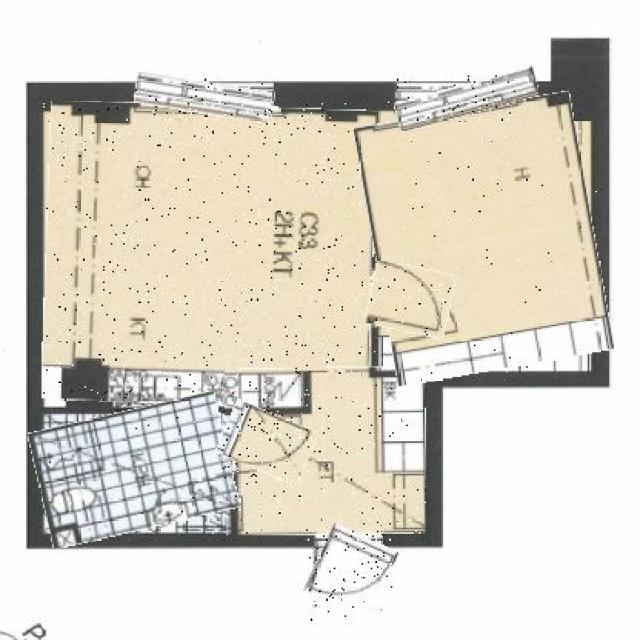door: (306, 529, 392, 620), (220, 406, 314, 479), (368, 264, 452, 336)
window: (396, 75, 538, 123), (134, 77, 272, 120)
zone: (43, 103, 375, 408), (366, 100, 603, 378), (226, 368, 426, 534), (32, 402, 236, 538)
